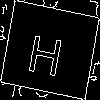H: (25, 25, 67, 78)
